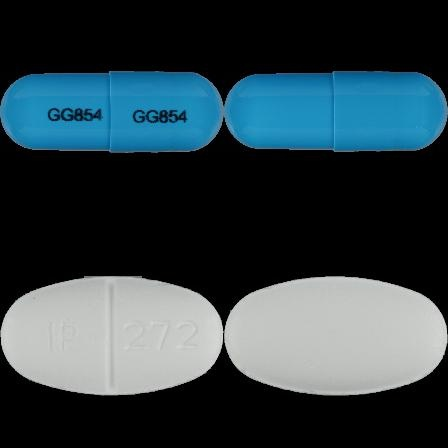21695-124: (0, 0, 224, 224)
